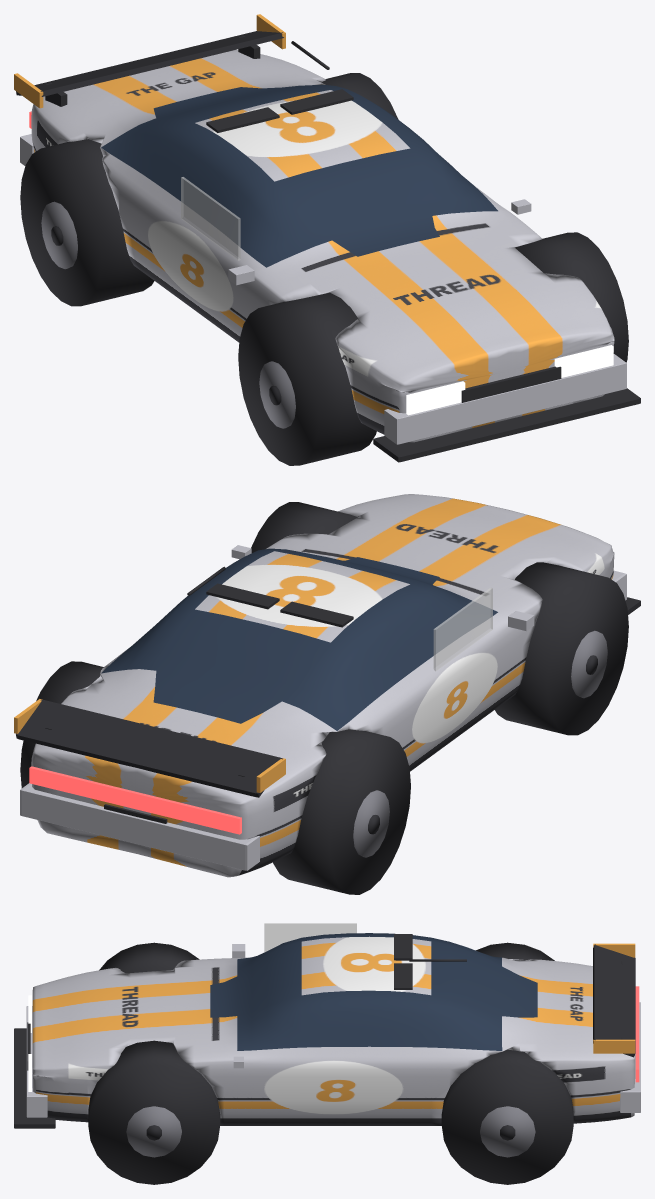
The model's file is car_11.glb.
3 renders of one model, top to bottom at view 1: azimuth 30°, elevation 25°; view 2: azimuth 150°, elevation 25°; view 3: azimuth 270°, elevation 25°, orthographic. The views are drawn at different scales.
Visible parts, largest first — view 1: body, cutter, cutter.002, bumperF, cutter.001, splitter, spoiler, net, dish.002, dish, grille, headlight (+4 smaller); view 2: body, cutter, cutter.002, spoiler, bumperR, tail, net, cutter.001, cutter.003, dish, dish.002, flap.001 (+2 smaller); view 3: body, cutter.001, cutter.003, spoiler, dish.003, dish.001, cutter, splitter, net, cutter.002, bumperF, bumperR (+4 smaller).
Part boxes in pixels (x1,y1,x2,y2): body: (31,50,614,442); cutter: (238,292,376,465); cutter.002: (20,139,154,306); bumperF: (384,354,626,444); cutter.001: (515,232,628,362); splitter: (373,388,640,462); spoiler: (16,31,283,96); net: (181,177,240,260); dish.002: (41,201,77,269); dish: (259,361,295,428); grille: (461,366,561,402); headlight: (406,381,465,415); body: (31,494,614,877); cutter: (495,562,628,735); cutter.002: (273,729,410,894); spoiler: (16,699,282,797); bumperR: (20,783,259,870); tail: (29,766,241,834); net: (433,587,492,671); cutter.001: (251,502,357,552); cutter.003: (20,661,103,788); dish: (571,630,607,698); dish.002: (353,790,389,857); flap.001: (206,583,279,609); body: (32,933,635,1125); cutter.001: (88,1040,220,1184); cutter.003: (441,1049,573,1184); spoiler: (593,944,635,1057); dish.003: (480,1106,535,1157); dish.001: (126,1106,181,1157); cutter: (99,942,199,973); splitter: (14,1028,55,1128); net: (264,923,356,952); cutter.002: (476,942,554,960); bumperF: (26,1006,47,1117); bumperR: (620,1002,640,1112).
Size of the model in its own units: 2.58 by 1.76 by 5.41.
Materials: 11 (1 with a texture image).
